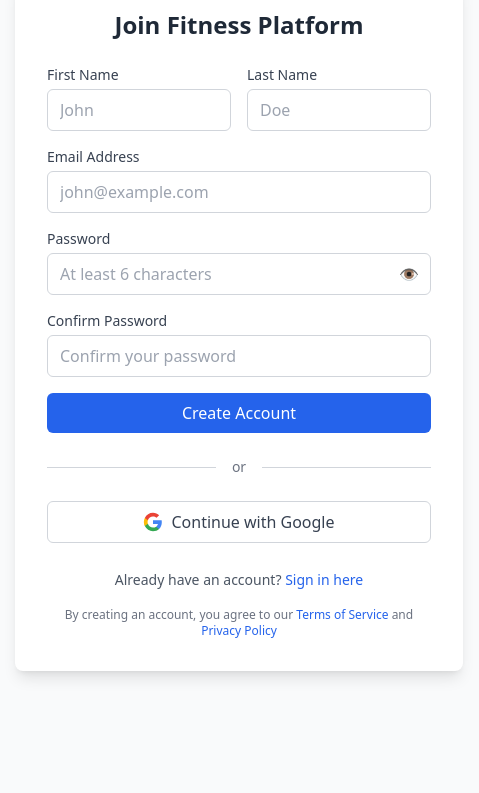
it: SignupForm › should validate all required fields
// Submit empty form
Click the button "Create Account".
click(239, 413)  # box [47, 393, 431, 433]
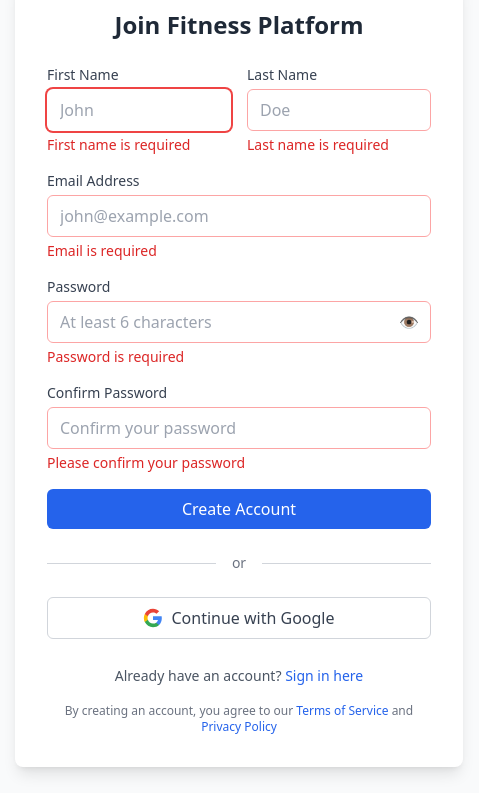
expect the text "First name is required" is shown: met, box [47, 135, 190, 154]
expect the text "Last name is required" is shown: met, box [247, 135, 389, 154]
expect the text "Email is required" is shown: met, box [47, 241, 157, 260]
